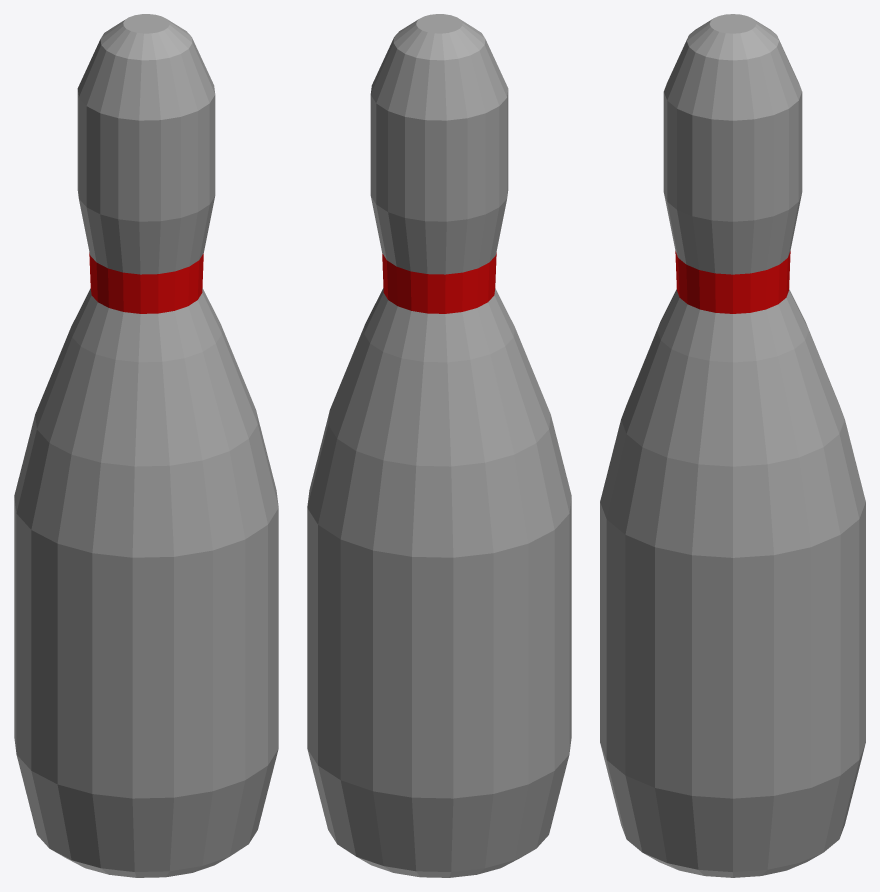
File: bowling_pin_export.fbx
3 views of the same model, side by side, from view 1: azimuth 30°, elevation 25°; view 2: azimuth 150°, elevation 25°; view 3: azimuth 270°, elevation 25° (orthographic).
Parts seen in each view (by area): view 1: pCylinder1; view 2: pCylinder1; view 3: pCylinder1.
Boxes of the visible parts, <box> form: pCylinder1: <box>14,14,278,877</box>; pCylinder1: <box>307,14,571,877</box>; pCylinder1: <box>600,14,865,877</box>.
Size of the model in its own units: 1.19 by 4.02 by 1.19.
